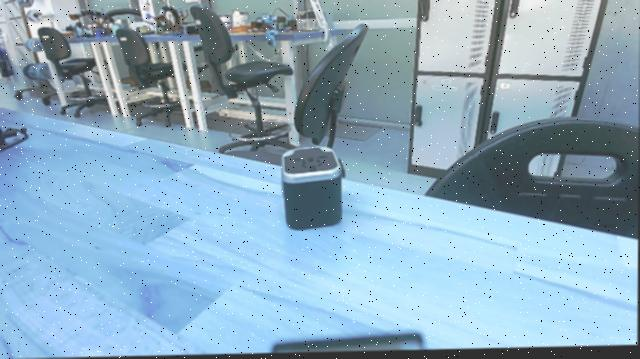adapter: (279, 145, 347, 236)
